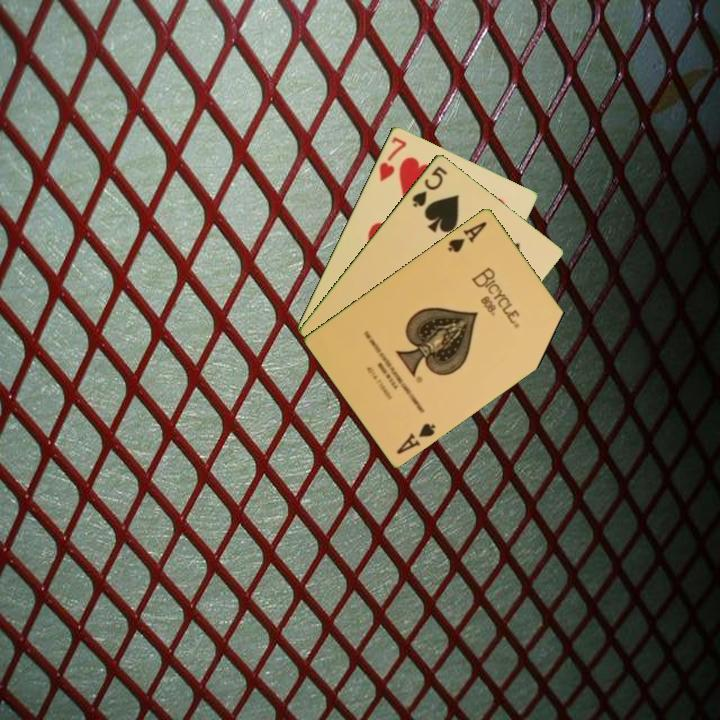5s: (409, 162, 450, 210)
7h: (375, 133, 409, 184)
As: (444, 217, 490, 255), (393, 419, 439, 457)
